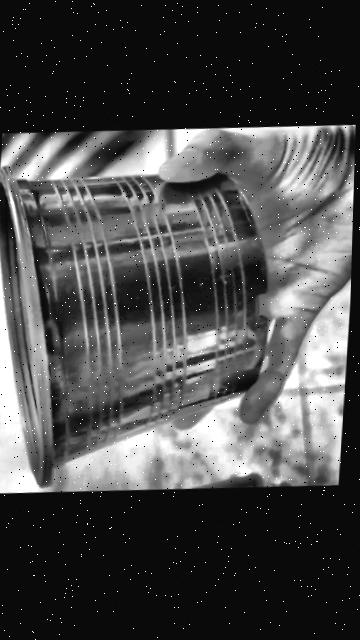pot: (0, 167, 267, 484)
